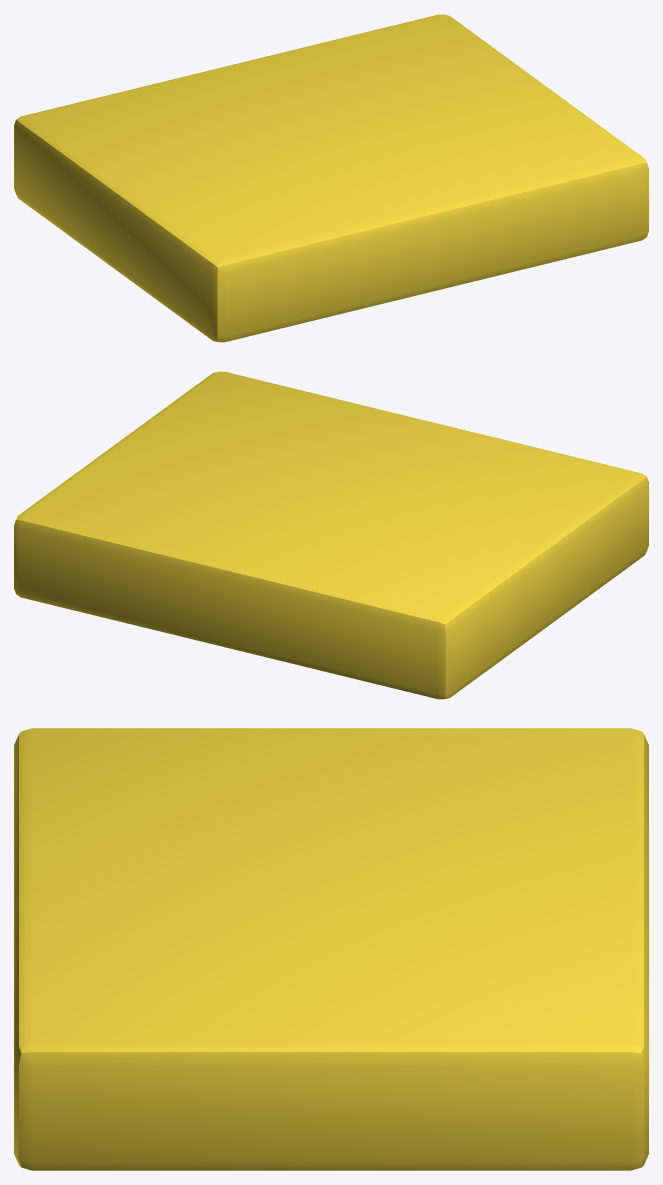
The model's file is Platform_P2_Yellow.fbx.
The picture shows the model from 3 angles, top to bottom: view 1: azimuth 30°, elevation 25°; view 2: azimuth 150°, elevation 25°; view 3: azimuth 270°, elevation 25°; orthographic projection. The views are drawn at different scales.
Visible parts, largest first — view 1: Platform_P2_Yellow; view 2: Platform_P2_Yellow; view 3: Platform_P2_Yellow.
Part boxes in pixels (x1,y1,x2,y2): Platform_P2_Yellow: [14, 14, 648, 342]; Platform_P2_Yellow: [14, 371, 648, 699]; Platform_P2_Yellow: [14, 728, 648, 1170].
Bounding box in the file's own units: 2.2 × 0.4 × 1.8.
